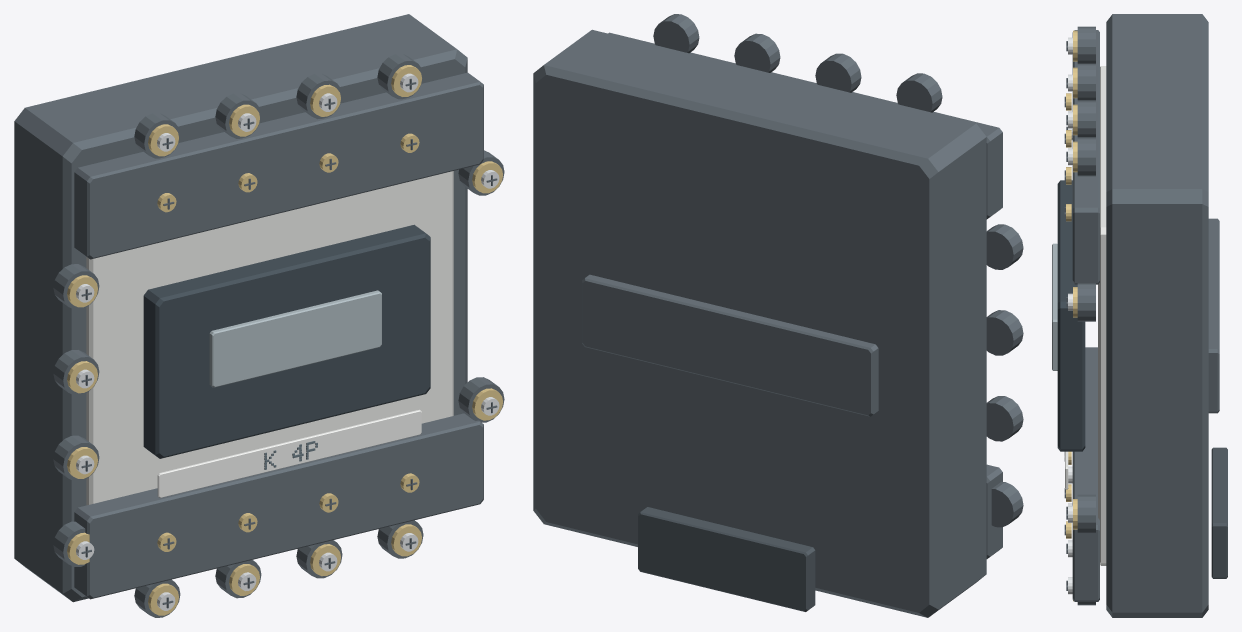
Rendered from contactor4P.glb.
The picture shows the model from 3 angles, left to right: view 1: azimuth 30°, elevation 25°; view 2: azimuth 150°, elevation 25°; view 3: azimuth 270°, elevation 25°; orthographic projection. The views are drawn at different scales.
Parts seen in each view (by area): view 1: contactor4P-preview; view 2: contactor4P-preview; view 3: contactor4P-preview.
Part boxes in pixels (left/top/right/bottom): contactor4P-preview: left=14, top=14, right=504, bottom=617; contactor4P-preview: left=533, top=14, right=1023, bottom=617; contactor4P-preview: left=1052, top=14, right=1227, bottom=617.
Size of the model in its own units: 3.81 by 4.11 by 1.41.
